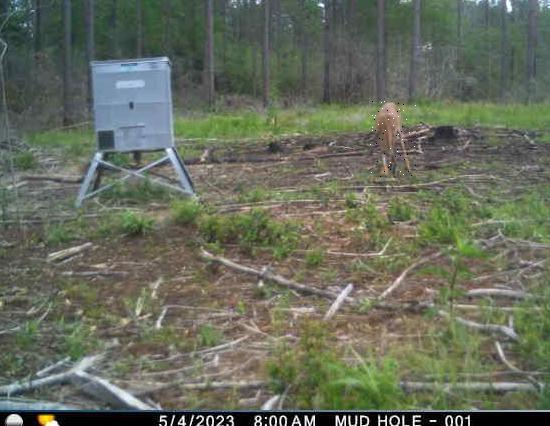Deer: (370, 101, 416, 180)
